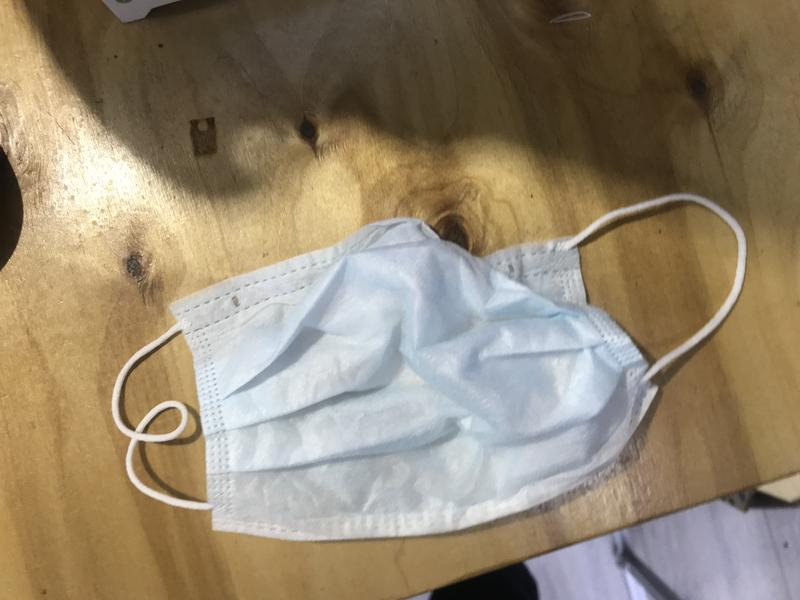medical_mask: (111, 192, 746, 537)
